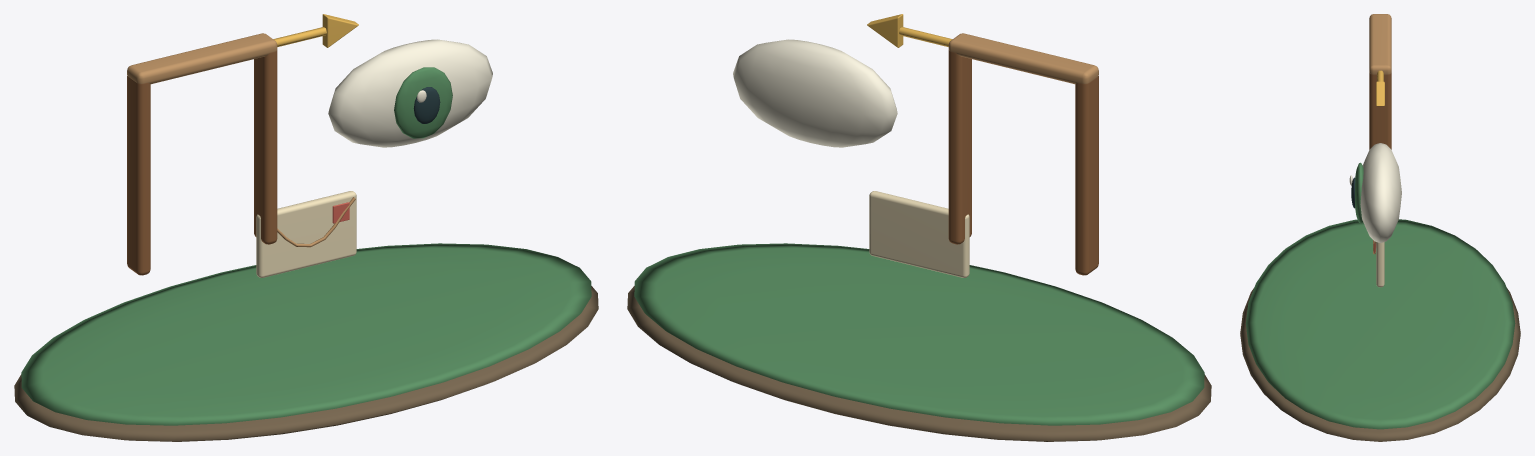
File: complete-second-passing-knowing.glb
The picture shows the model from 3 angles, left to right: view 1: azimuth 30°, elevation 25°; view 2: azimuth 150°, elevation 25°; view 3: azimuth 270°, elevation 25°; orthographic projection. The views are drawn at different scales.
Parts seen in each view (by area): view 1: complete-second-passing-knowing_surface_01, complete-second-passing-knowing_surface_00, complete-second-passing-knowing_surface_04, complete-second-passing-knowing_surface_02, complete-second-passing-knowing_surface_06, complete-second-passing-knowing_surface_03, complete-second-passing-knowing_surface_08, complete-second-passing-knowing_surface_05; view 2: complete-second-passing-knowing_surface_01, complete-second-passing-knowing_surface_04, complete-second-passing-knowing_surface_00, complete-second-passing-knowing_surface_02, complete-second-passing-knowing_surface_06, complete-second-passing-knowing_surface_03, complete-second-passing-knowing_surface_08; view 3: complete-second-passing-knowing_surface_01, complete-second-passing-knowing_surface_00, complete-second-passing-knowing_surface_04, complete-second-passing-knowing_surface_03, complete-second-passing-knowing_surface_02, complete-second-passing-knowing_surface_06, complete-second-passing-knowing_surface_08.
Boxes of the visible parts, x1,y1,x2,y2 form: complete-second-passing-knowing_surface_01: [21, 67, 591, 425]; complete-second-passing-knowing_surface_00: [14, 286, 598, 441]; complete-second-passing-knowing_surface_04: [328, 39, 492, 147]; complete-second-passing-knowing_surface_02: [127, 50, 277, 275]; complete-second-passing-knowing_surface_06: [256, 191, 356, 277]; complete-second-passing-knowing_surface_03: [127, 33, 355, 247]; complete-second-passing-knowing_surface_08: [273, 14, 358, 47]; complete-second-passing-knowing_surface_05: [413, 87, 440, 123]; complete-second-passing-knowing_surface_01: [634, 243, 1204, 425]; complete-second-passing-knowing_surface_04: [733, 39, 897, 147]; complete-second-passing-knowing_surface_00: [627, 286, 1211, 441]; complete-second-passing-knowing_surface_02: [948, 50, 1098, 275]; complete-second-passing-knowing_surface_06: [869, 191, 969, 277]; complete-second-passing-knowing_surface_03: [948, 33, 1098, 84]; complete-second-passing-knowing_surface_08: [867, 14, 952, 47]; complete-second-passing-knowing_surface_01: [1245, 162, 1515, 429]; complete-second-passing-knowing_surface_00: [1240, 288, 1520, 441]; complete-second-passing-knowing_surface_04: [1349, 143, 1401, 242]; complete-second-passing-knowing_surface_03: [1369, 14, 1391, 254]; complete-second-passing-knowing_surface_02: [1369, 73, 1391, 149]; complete-second-passing-knowing_surface_06: [1376, 242, 1384, 287]; complete-second-passing-knowing_surface_08: [1376, 70, 1384, 106].
Bounding box in the file's own units: 4.56 × 2.68 × 2.5.
